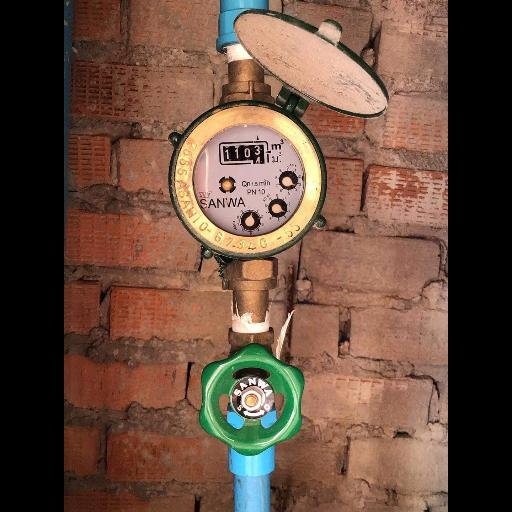0: (242, 145, 252, 161)
1: (223, 145, 232, 162), (233, 145, 242, 161)
3: (253, 144, 264, 164)
border_water_meter_number: (219, 141, 272, 166)
